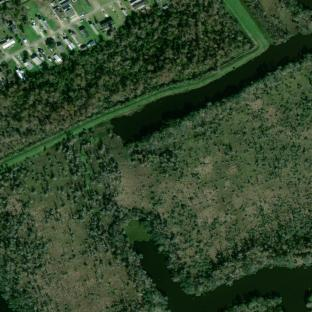Floresta: (0, 0, 251, 159), (121, 204, 312, 302), (0, 215, 43, 312), (121, 229, 171, 312), (244, 0, 312, 44), (222, 296, 282, 312)
